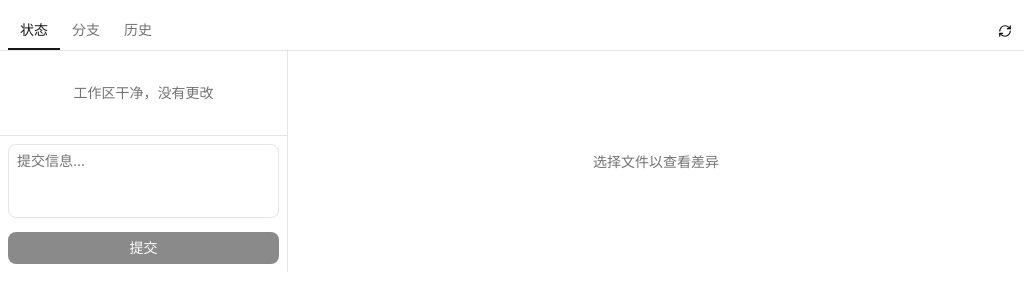
it: GitPanel › 点击分支 Tab 切换到分支视图
The image size is (1024, 289).
Click the button with test id "tab-branches" at (86, 31), box 60,12 -> 112,50
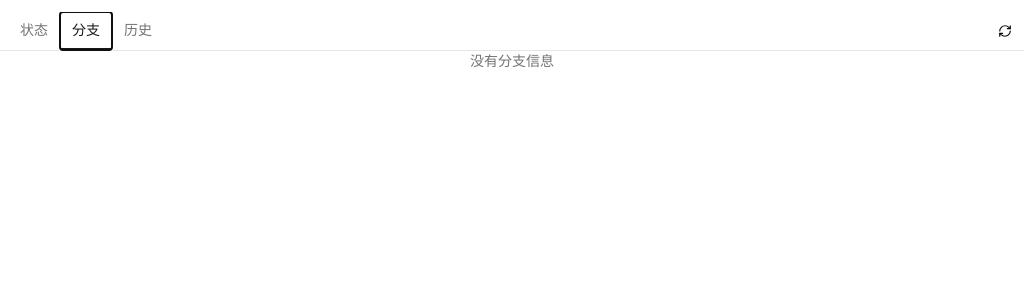
Now the text "没有分支信息" is shown, box 470,52 -> 554,69
